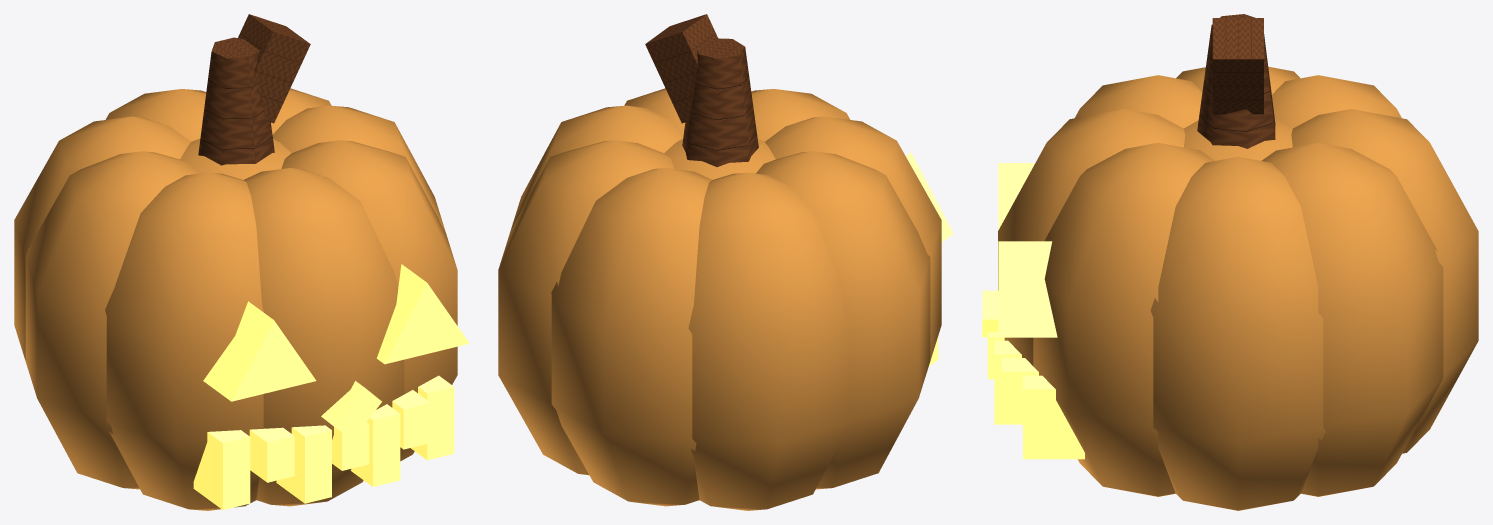
The picture shows the model from 3 angles, left to right: view 1: azimuth 30°, elevation 25°; view 2: azimuth 150°, elevation 25°; view 3: azimuth 270°, elevation 25°; orthographic projection. The views are drawn at different scales.
Visible parts, largest first — view 1: jack-o-lantern-grin; view 2: jack-o-lantern-grin; view 3: jack-o-lantern-grin.
Part boxes in pixels (x1,y1,x2,y2): jack-o-lantern-grin: [14, 14, 469, 510]; jack-o-lantern-grin: [498, 14, 953, 510]; jack-o-lantern-grin: [982, 14, 1478, 510].
Bounding box in the file's own units: 0.4673 × 0.4915 × 0.4825.
Materials: 3 (1 with a texture image).
